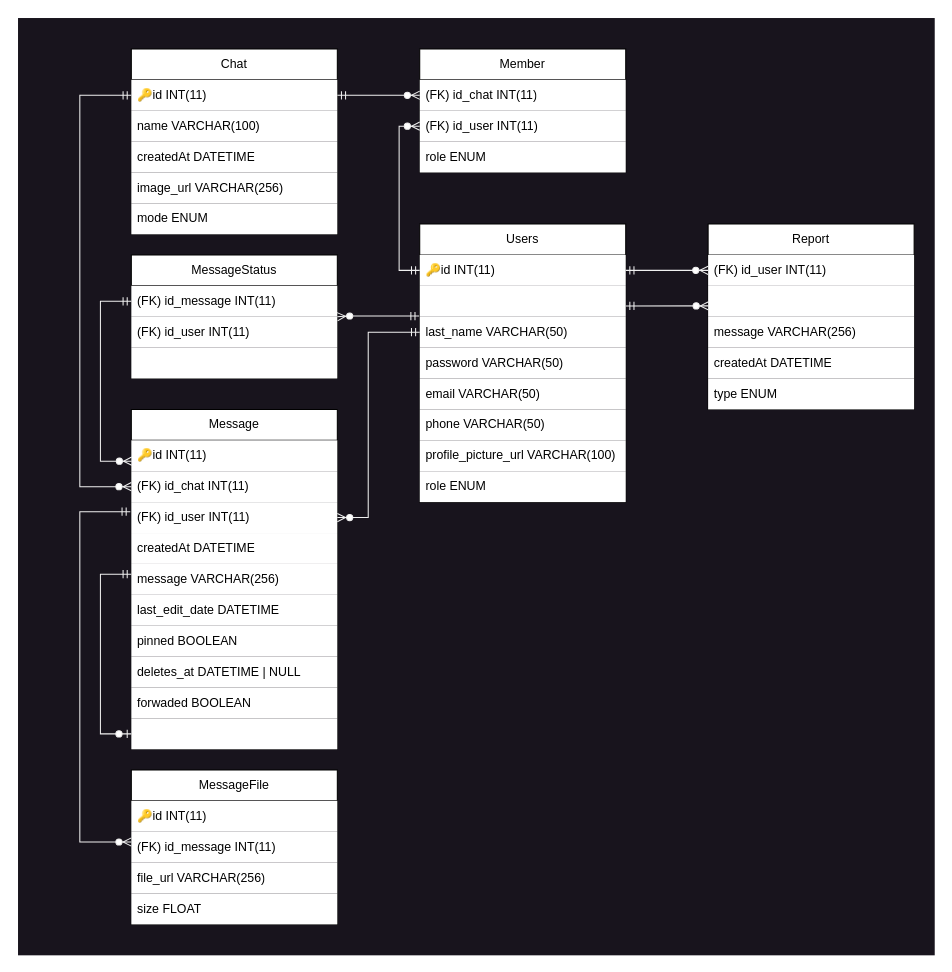
This 952x972 diagram has some shape labels left out. Here are the shapes that lost their labels. From the top down, the centre of each, then its label:
(x=522, y=300): name VARCHAR(50)
(x=811, y=300): (FK) id_reporter INT(11)
(x=234, y=362): status ENUM
(x=234, y=733): (FK) responding_to INT | NULL
